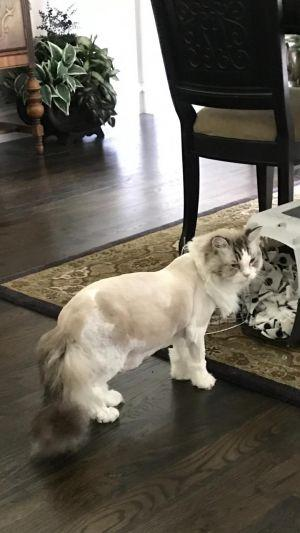ragdoll: (208, 223, 274, 299)
